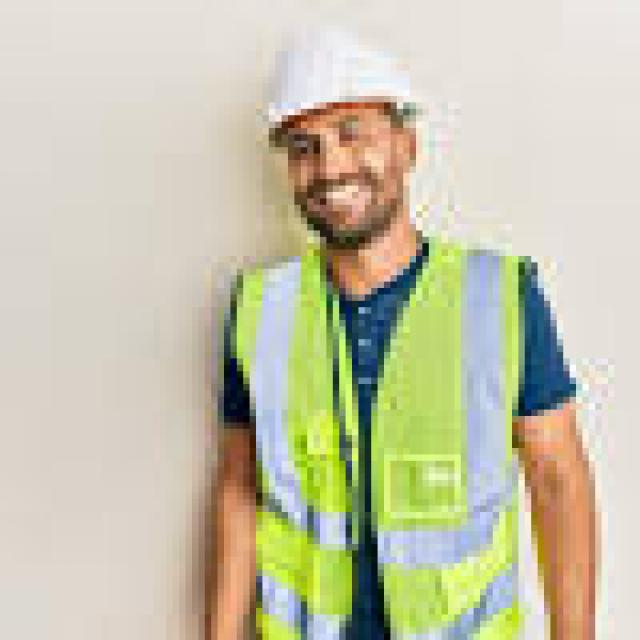Reflective-Jacket: (218, 237, 556, 640)
Safety-Helmet: (250, 6, 448, 141)
